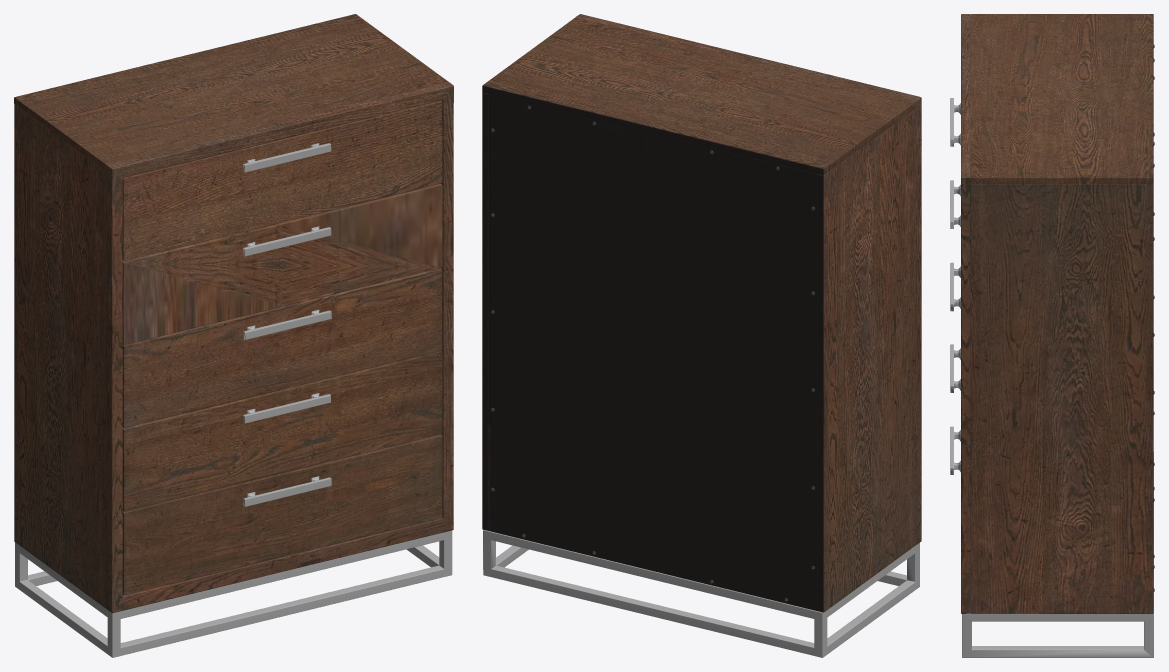
Rendered from B071FJR3SR.glb.
3 renders of one model, left to right at view 1: azimuth 30°, elevation 25°; view 2: azimuth 150°, elevation 25°; view 3: azimuth 270°, elevation 25°, orthographic.
Parts seen in each view (by area): view 1: RootNode; view 2: RootNode; view 3: RootNode.
Boxes of the visible parts, box(x1,y1,x2,y2) form: RootNode: box(14, 14, 453, 657); RootNode: box(482, 14, 921, 657); RootNode: box(950, 14, 1154, 657).
Size of the model in its own units: 0.9652 by 1.32 by 0.5084.
Materials: 1 (1 with a texture image).
